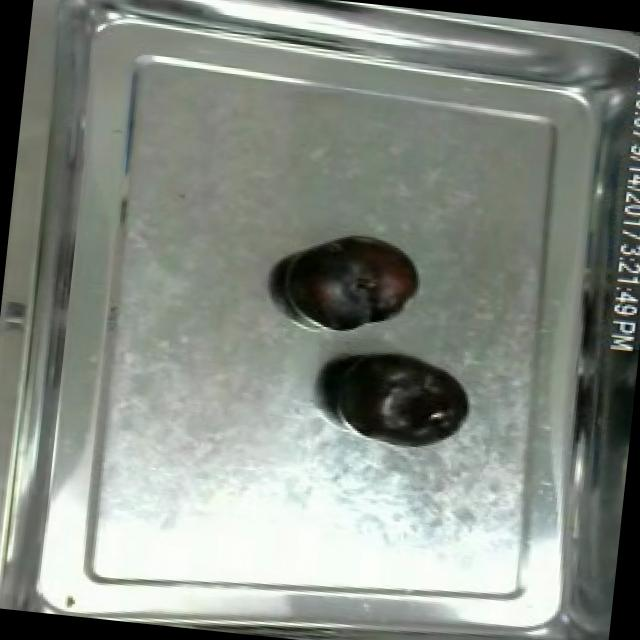Fruit: (272, 224, 428, 340), (315, 341, 476, 452)
